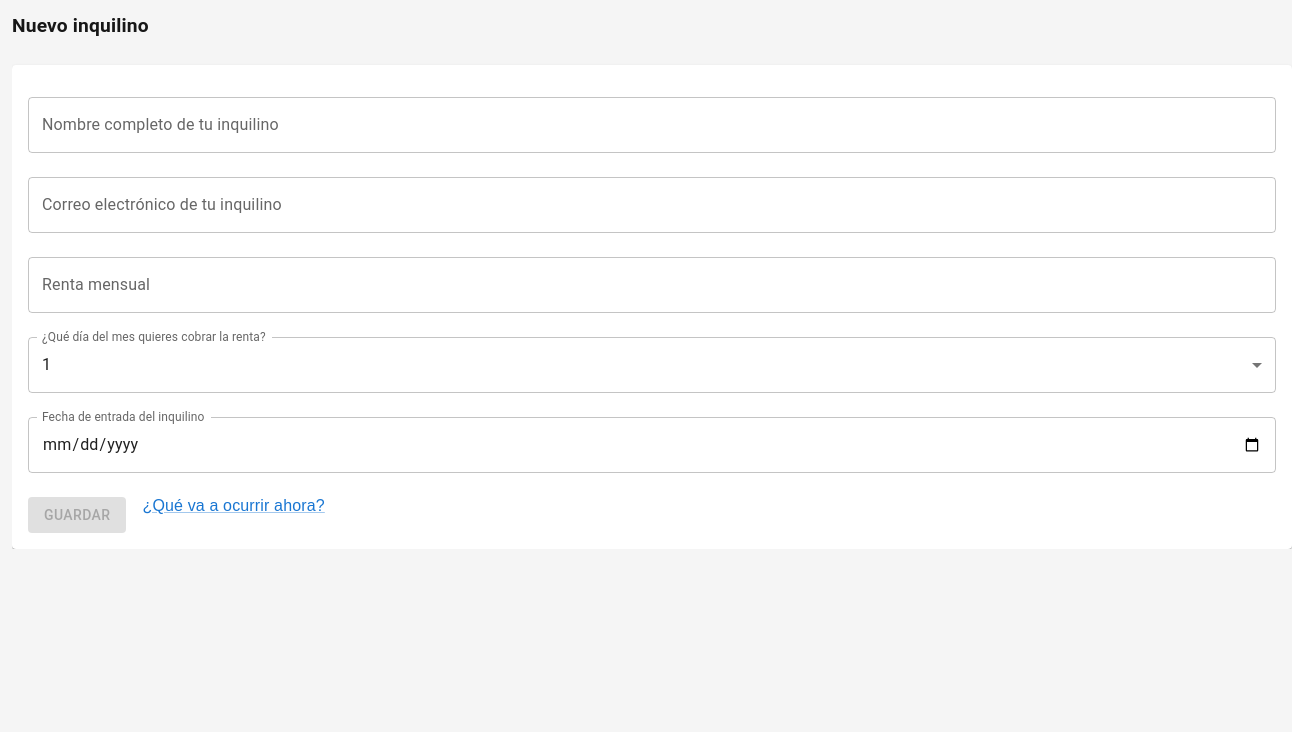
Test case: Add Tenant Page › displays partial rent alert
This screenshot has width=1292, height=732.
Step 1. Type "John Doe" into the field labelled "Nombre completo de tu inquilino" → (652, 125), box [28, 97, 1276, 153]
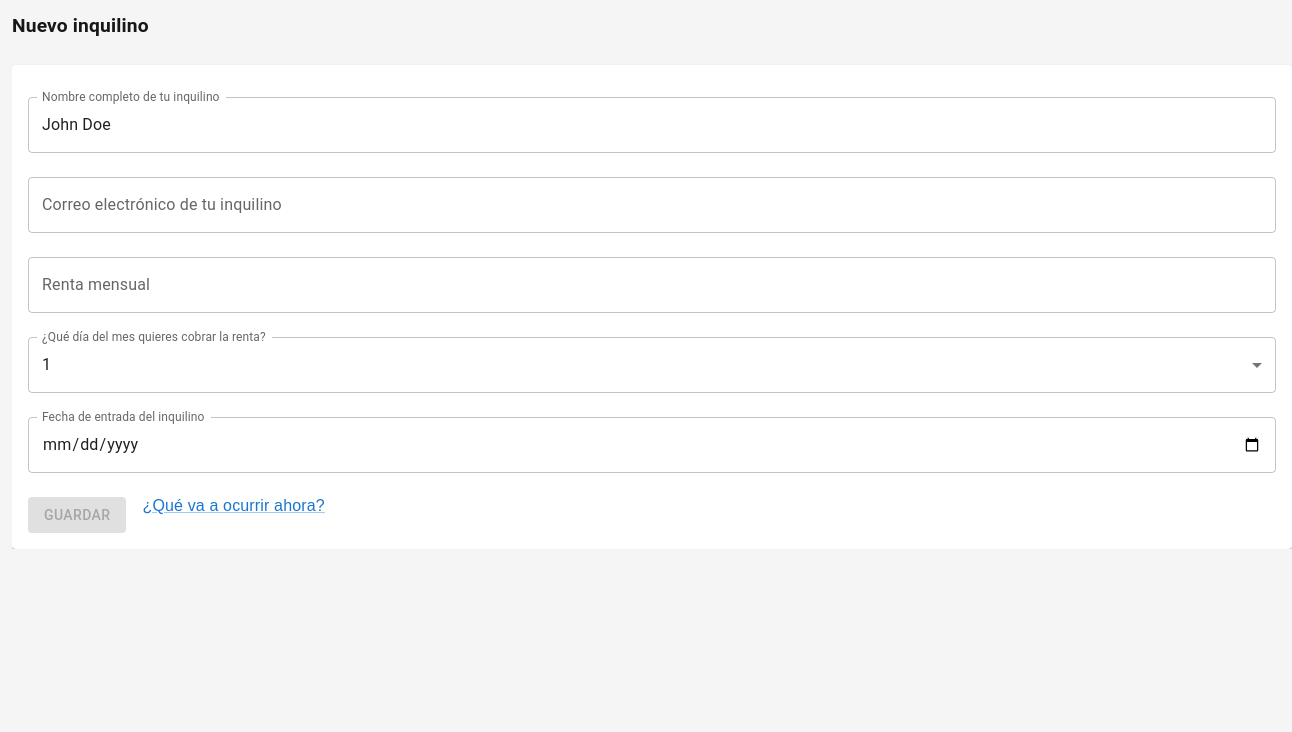
Step 2. Type "johndoe@habitacional.es" into the field labelled "Correo electrónico de tu inquilino" → (652, 205), box [28, 177, 1276, 233]
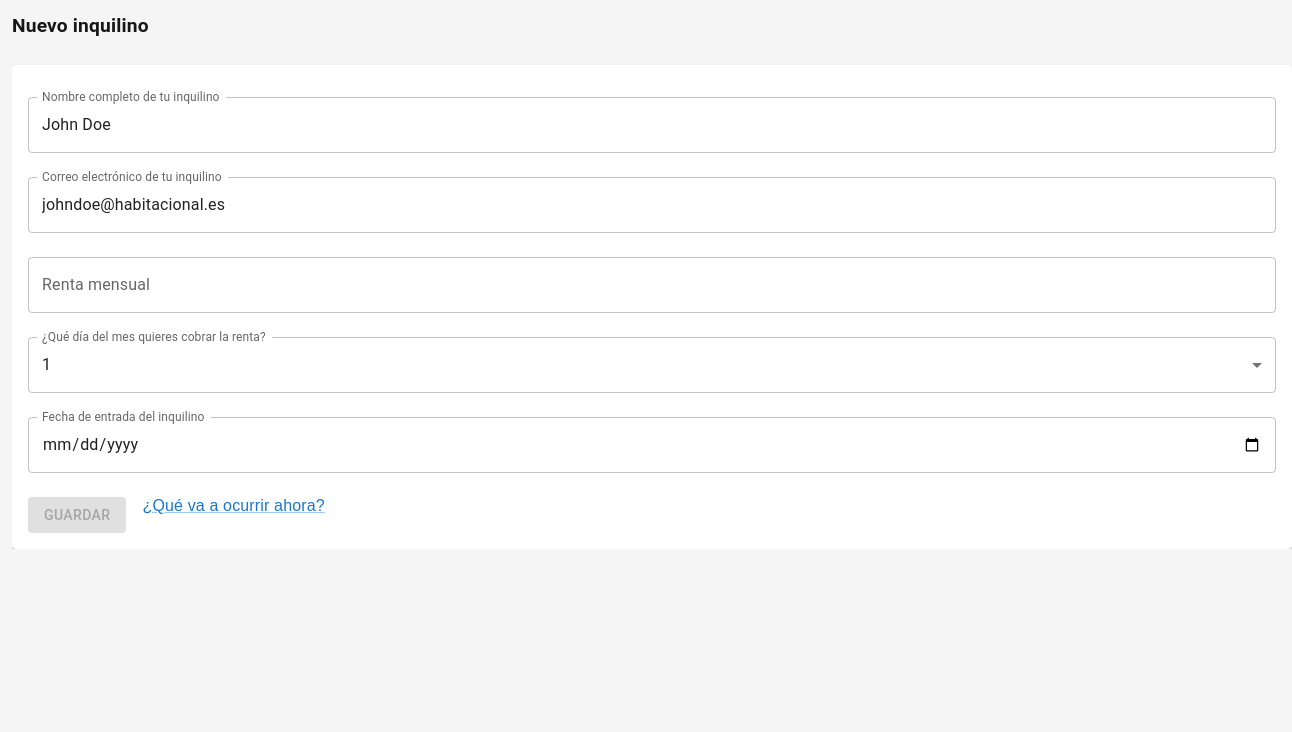
Step 3. Type "500" into the number field labelled "Renta mensual" → (652, 285), box [28, 257, 1276, 313]
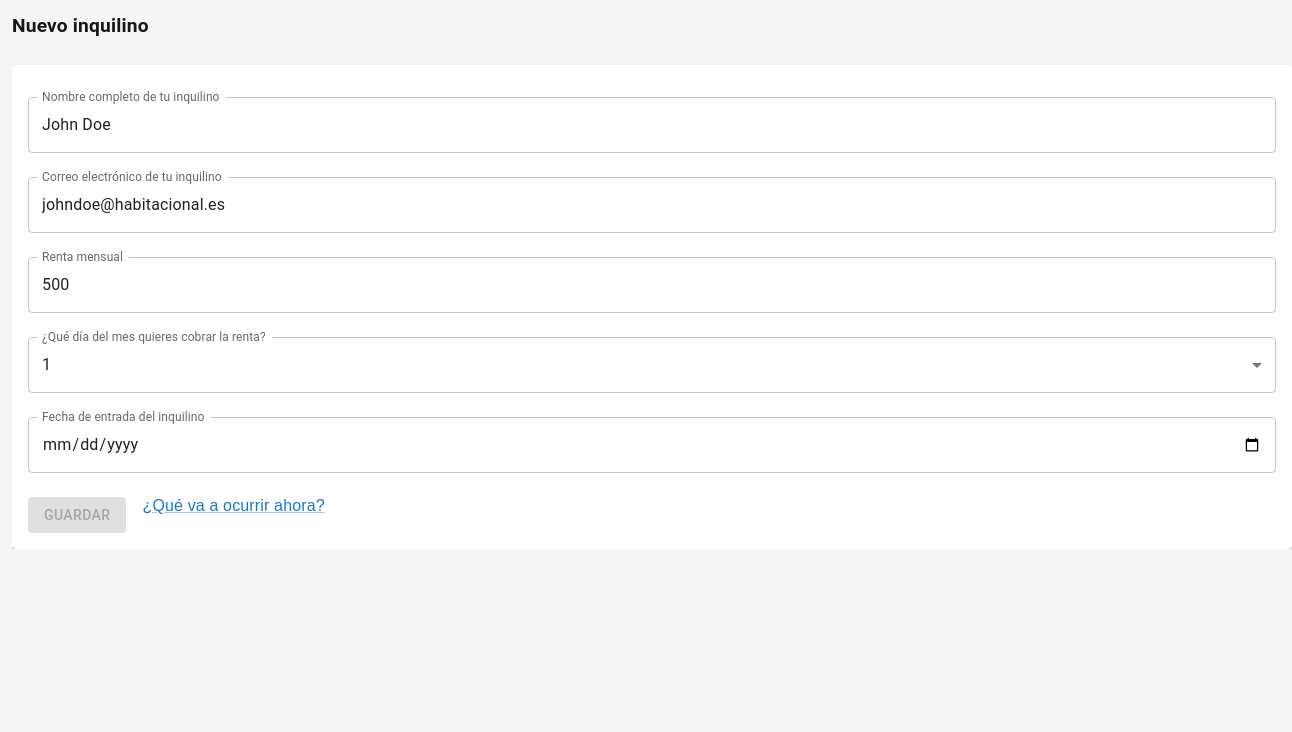
Step 4. Type "2024-11-15" into the date field labelled "Fecha de entrada del inquilino" → (652, 445), box [28, 417, 1276, 473]
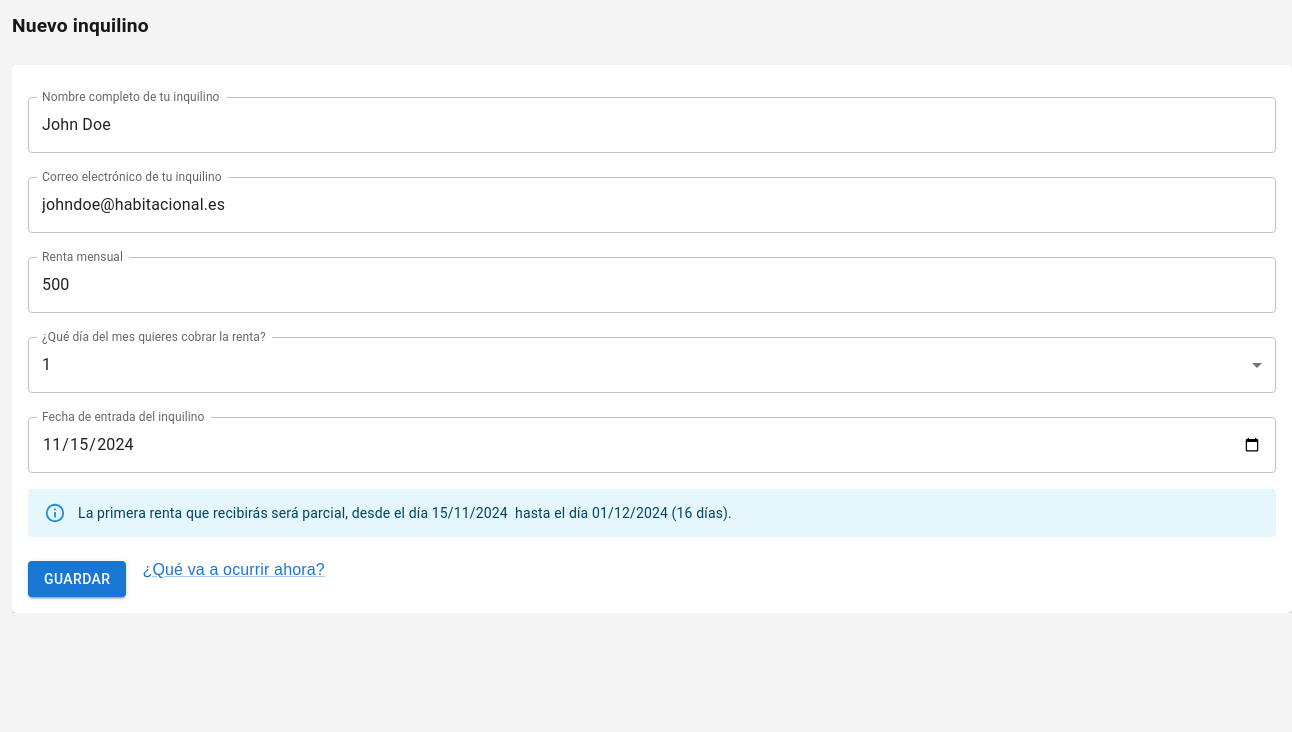
Expected: the message with test id "partial-rent-alert" is shown, [28, 489, 1276, 537]
